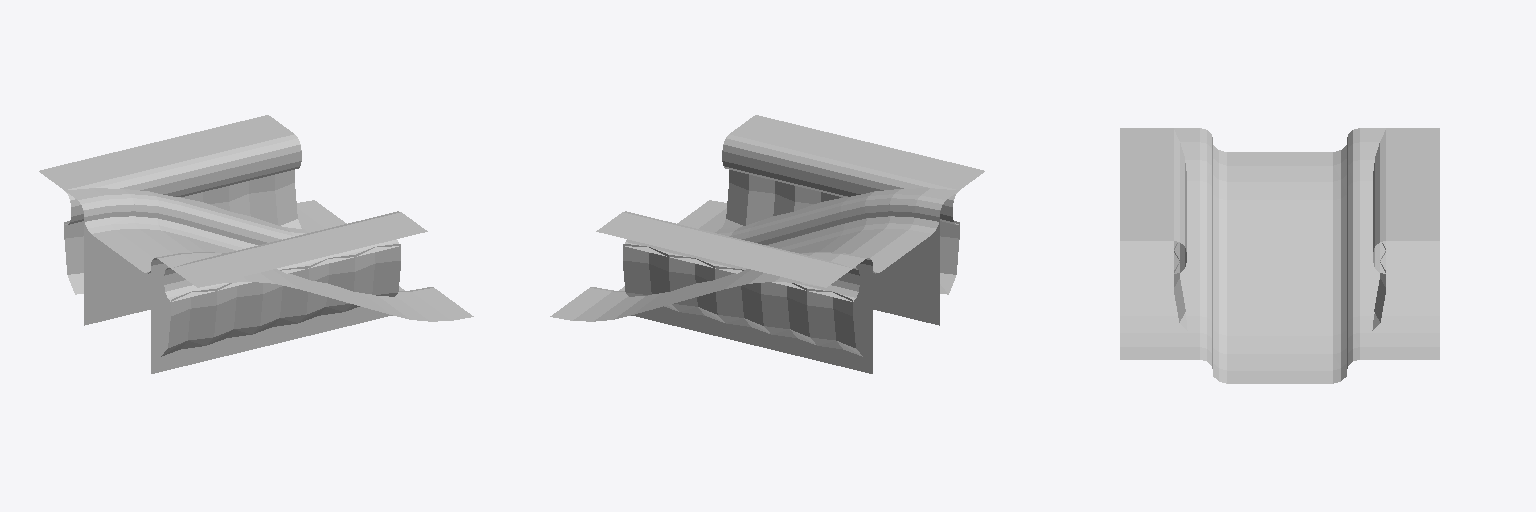
File: Track_Cliff_Incline_Standard_2_Tall_Double.obj
The picture shows the model from 3 angles: view 1: azimuth 30°, elevation 25°; view 2: azimuth 150°, elevation 25°; view 3: azimuth 270°, elevation 25°; orthographic projection.
Parts seen in each view (by area): view 1: Grass, Rock, Dirt; view 2: Grass, Rock, Dirt; view 3: Grass, Dirt, Rock.
Boxes of the visible parts, <box> form: Grass: <box>39,115,473,373</box>; Rock: <box>64,170,400,356</box>; Dirt: <box>85,216,404,290</box>; Grass: <box>550,115,984,373</box>; Rock: <box>623,170,959,356</box>; Dirt: <box>619,216,938,290</box>; Grass: <box>1120,128,1439,368</box>; Dirt: <box>1213,145,1346,383</box>; Rock: <box>1174,243,1385,330</box>.
Size of the model in its own units: 6 by 2.5 by 6.